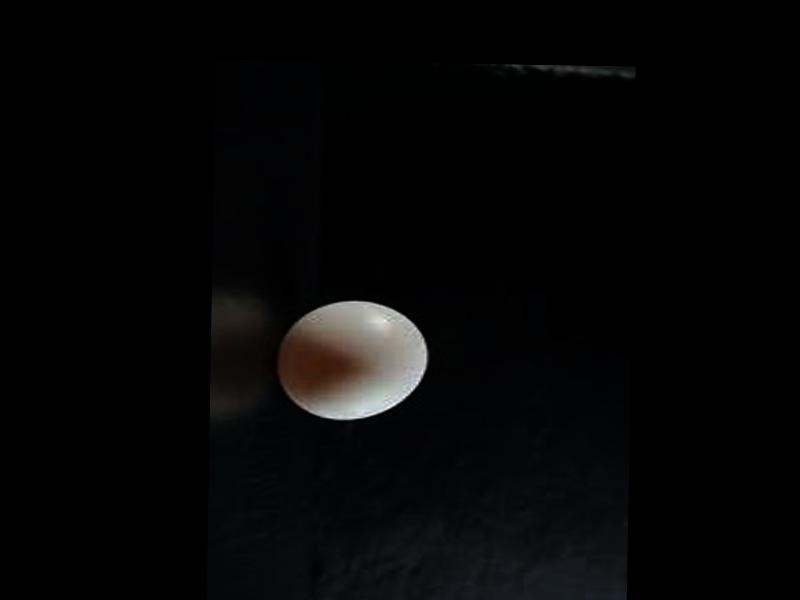Eggs: (276, 300, 432, 422)
